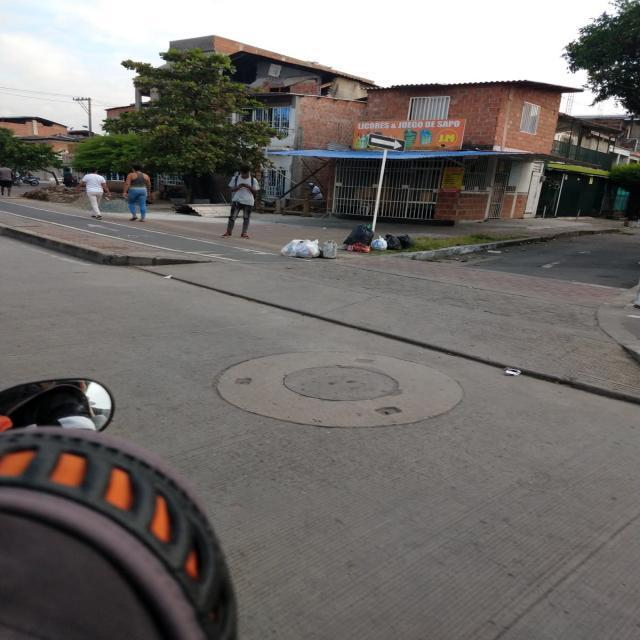Garbage_Bag: (280, 237, 322, 259), (345, 223, 373, 246), (386, 235, 402, 250), (370, 237, 387, 250)
